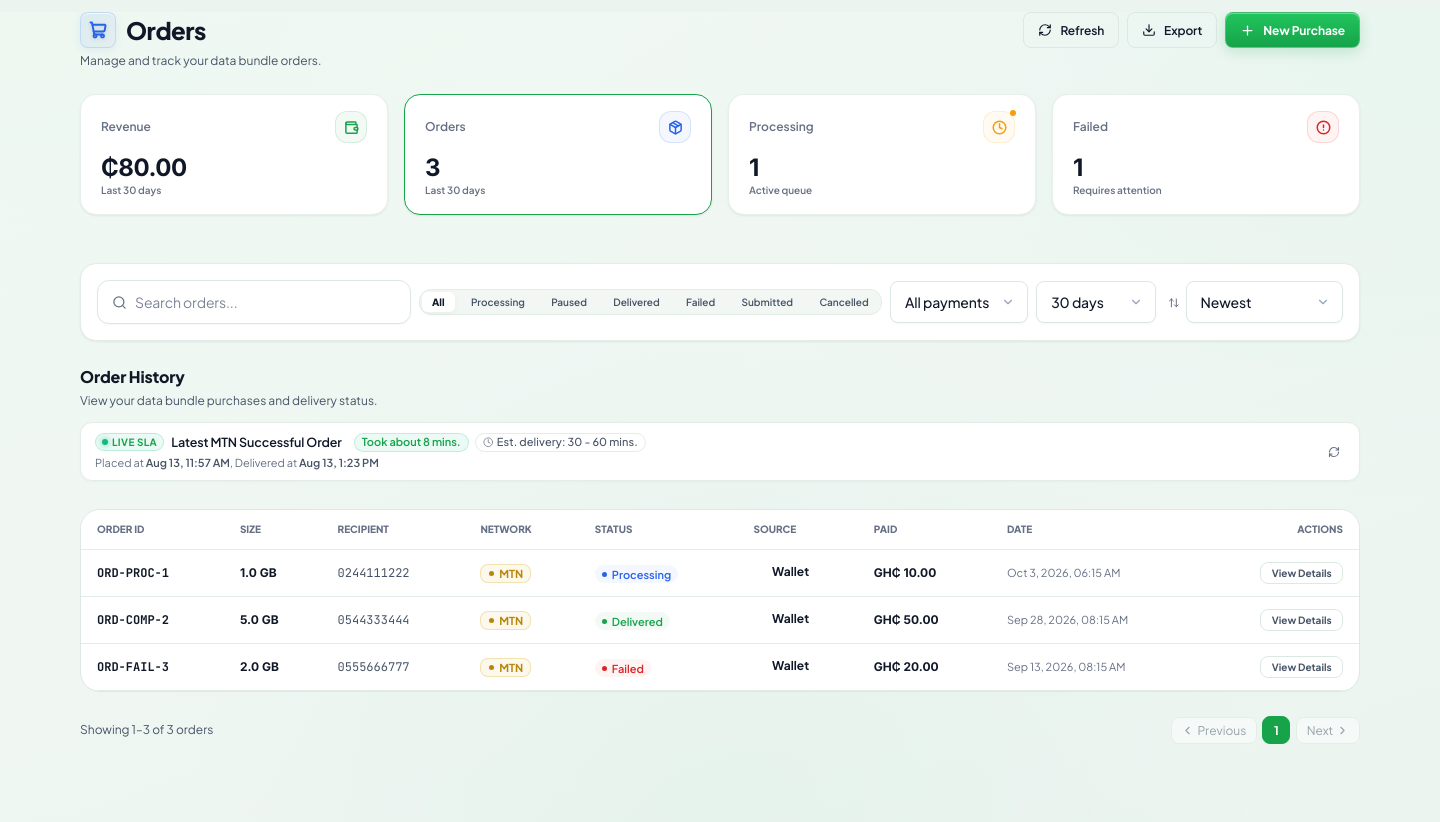
Test: Customer & Agent Portal Filter & Sorting Suite › Customer OrdersPage Filters & Sorting › filters orders by Delivered (COMPLETED) when clicking Delivered tab
Check: the text "ORD-PROC-1" is shown, box [81, 550, 224, 597]
Note: Click "Delivered" tab
Click the button "Delivered".
click(636, 302)  # box [603, 292, 670, 312]
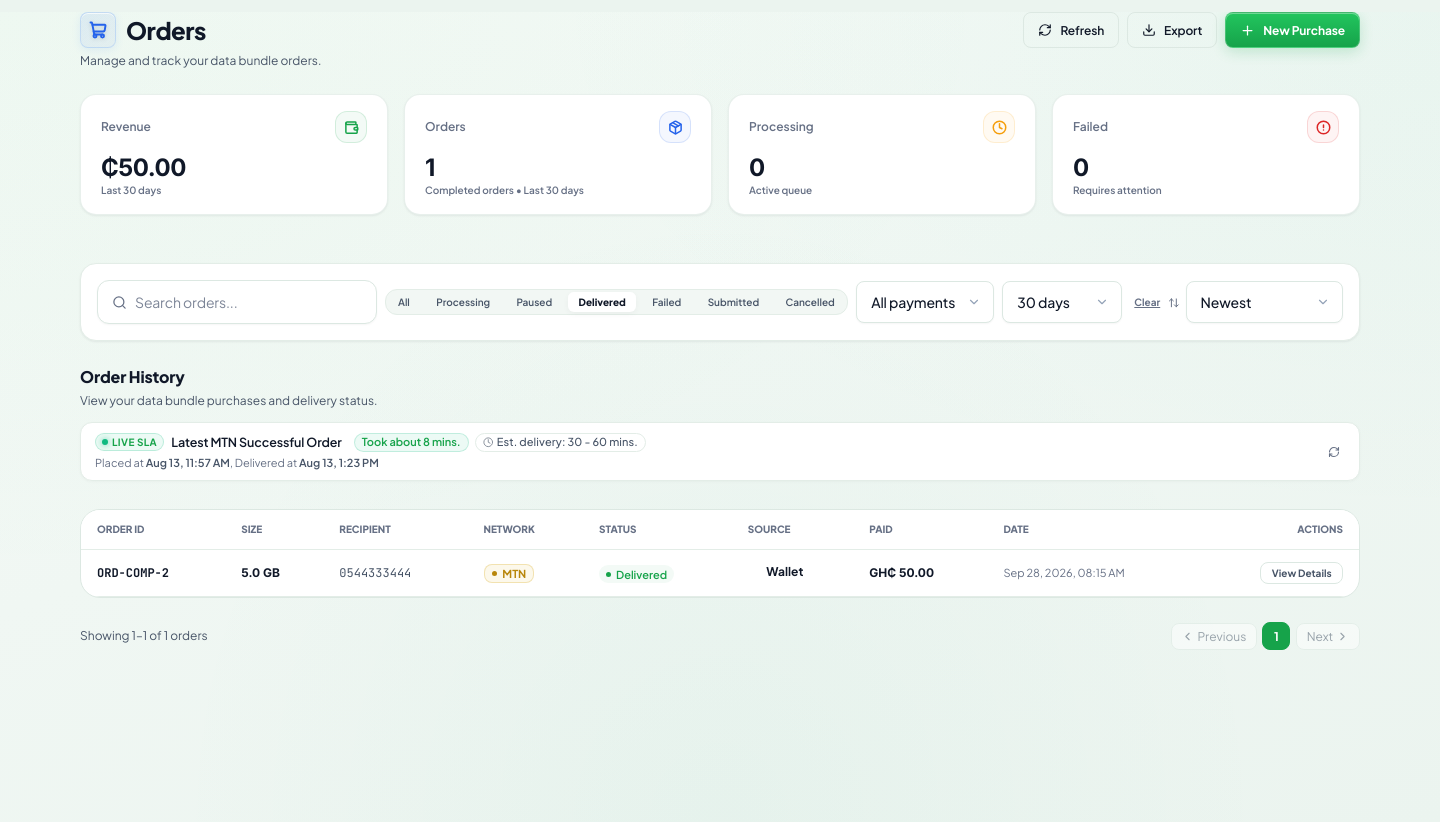
Check: the text "ORD-COMP-2" is shown, box [81, 550, 225, 597]
Check: the text "ORD-PROC-1" is gone
Check: the text "ORD-FAIL-3" is gone
